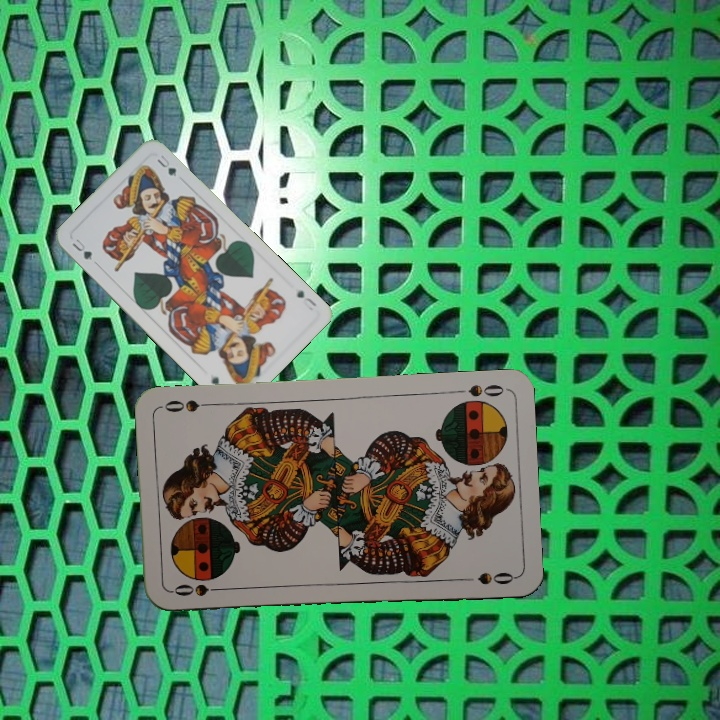GU: (68, 235, 96, 263), (293, 286, 319, 313)
SO: (449, 380, 507, 400), (168, 580, 227, 599)
